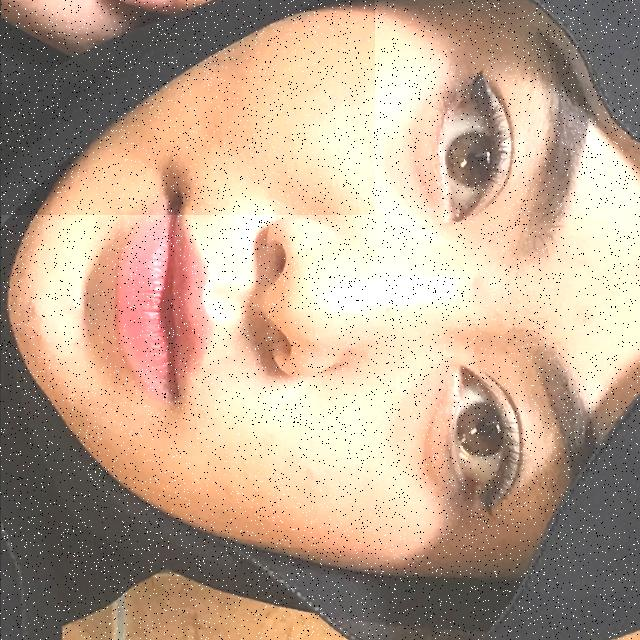ibu: (0, 0, 374, 215)
